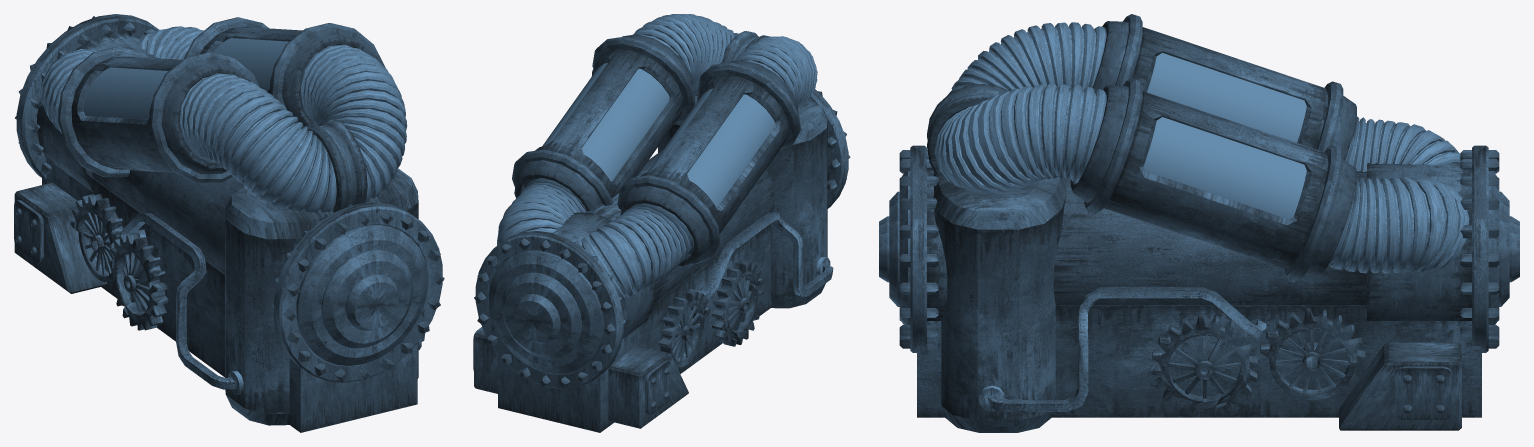
The model's file is static.glb.
3 renders of one model, left to right at view 1: azimuth 30°, elevation 25°; view 2: azimuth 150°, elevation 25°; view 3: azimuth 270°, elevation 25°, orthographic. The views are drawn at different scales.
Parts seen in each view (by area): view 1: Extrude_3, Cube_30, Tube_4, Cylinder_3, Cylinder_0, Cylinder_Cube, Cylinder_1, Cylinder_2, Tube_3, Cylinder_1_2_2, Cube_29, Remesh_2 (+25 smaller); view 2: Cylinder_Cube, Cylinder_2, Cube_30, Extrude_3, Tube_4, Cylinder_3, Cylinder_0, Cube_29, Tube_3, Cylinder_1_2_2, Cylinder_1, Sweep (+25 smaller); view 3: Cube_30, Extrude_3, Cylinder_Cube, Cylinder_1, Cylinder_2, Cylinder_1_4_2, Tube_3, Tube_4, Cube_29, Cylinder_3, Sweep_2, Sweep (+26 smaller).
Part boxes in pixels (<box>): Extrude_3: <box>225,168,418,425</box>; Cube_30: <box>42,159,417,432</box>; Tube_4: <box>16,14,442,382</box>; Cylinder_3: <box>58,17,385,182</box>; Cylinder_0: <box>296,224,427,365</box>; Cylinder_Cube: <box>71,27,302,172</box>; Cylinder_1: <box>91,170,243,273</box>; Cylinder_2: <box>83,38,288,119</box>; Tube_3: <box>161,32,376,174</box>; Cylinder_1_2_2: <box>321,249,413,348</box>; Cube_29: <box>14,182,107,293</box>; Remesh_2: <box>108,232,168,330</box>; Cylinder_Cube: <box>535,49,788,233</box>; Cylinder_2: <box>542,62,774,207</box>; Cube_30: <box>498,223,773,432</box>; Extrude_3: <box>658,97,827,308</box>; Tube_4: <box>475,89,848,388</box>; Cylinder_3: <box>512,36,800,263</box>; Cylinder_0: <box>488,250,603,374</box>; Cube_29: <box>474,328,688,428</box>; Tube_3: <box>514,34,798,266</box>; Cylinder_1_2_2: <box>501,272,581,358</box>; Cylinder_1: <box>585,149,774,302</box>; Sweep: <box>689,212,833,299</box>; Cube_30: <box>917,305,1481,417</box>; Extrude_3: <box>933,171,1066,432</box>; Cylinder_Cube: <box>1104,27,1328,268</box>; Cylinder_1: <box>1053,171,1366,305</box>; Cylinder_2: <box>1143,52,1306,218</box>; Cylinder_1_4_2: <box>927,163,1471,320</box>; Tube_3: <box>1070,21,1356,275</box>; Tube_4: <box>910,145,1488,352</box>; Cube_29: <box>1339,342,1461,430</box>; Cylinder_3: <box>1084,14,1343,282</box>; Sweep_2: <box>969,27,1458,266</box>; Sweep: <box>987,287,1266,411</box>.
Size of the model in its own units: 2.05 by 2.62 by 4.45.
5 materials, 5 textured.
